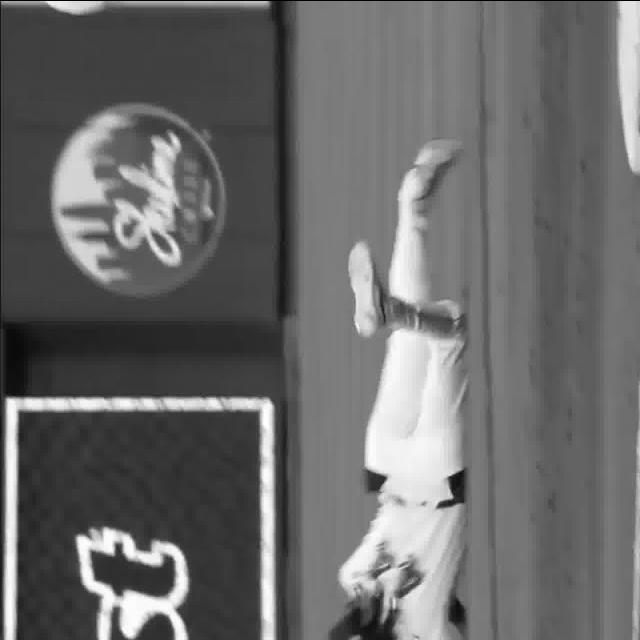shoe: (344, 238, 386, 338), (400, 135, 460, 196)
